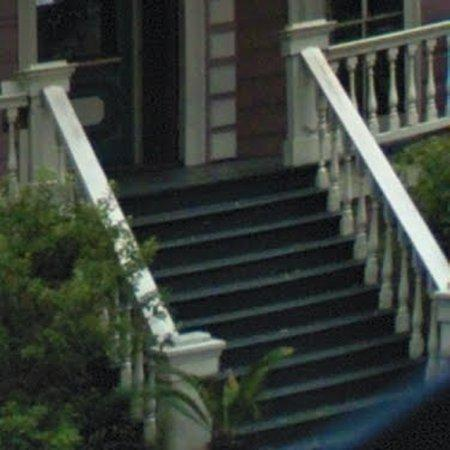stairs: (121, 168, 409, 444)
